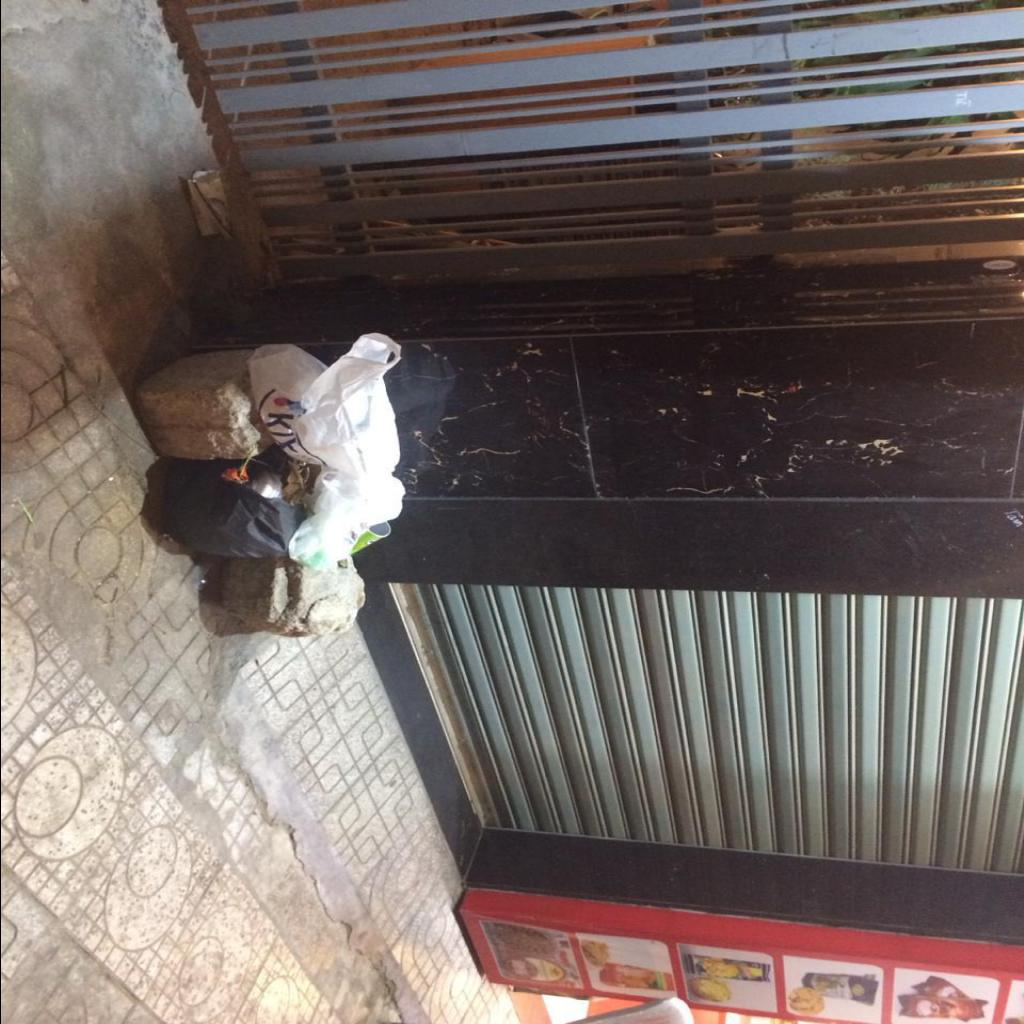Garbage bag: (158, 458, 303, 562)
Single-use carrier bag: (246, 332, 400, 474), (290, 467, 401, 568)
Unlabeled litter: (187, 169, 227, 241), (354, 522, 392, 552), (248, 468, 280, 498)
